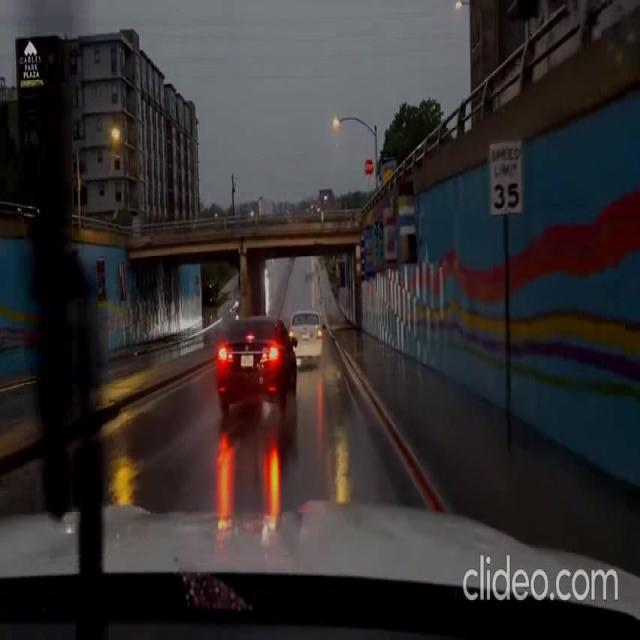Car: (214, 313, 296, 409), (288, 306, 322, 366)
